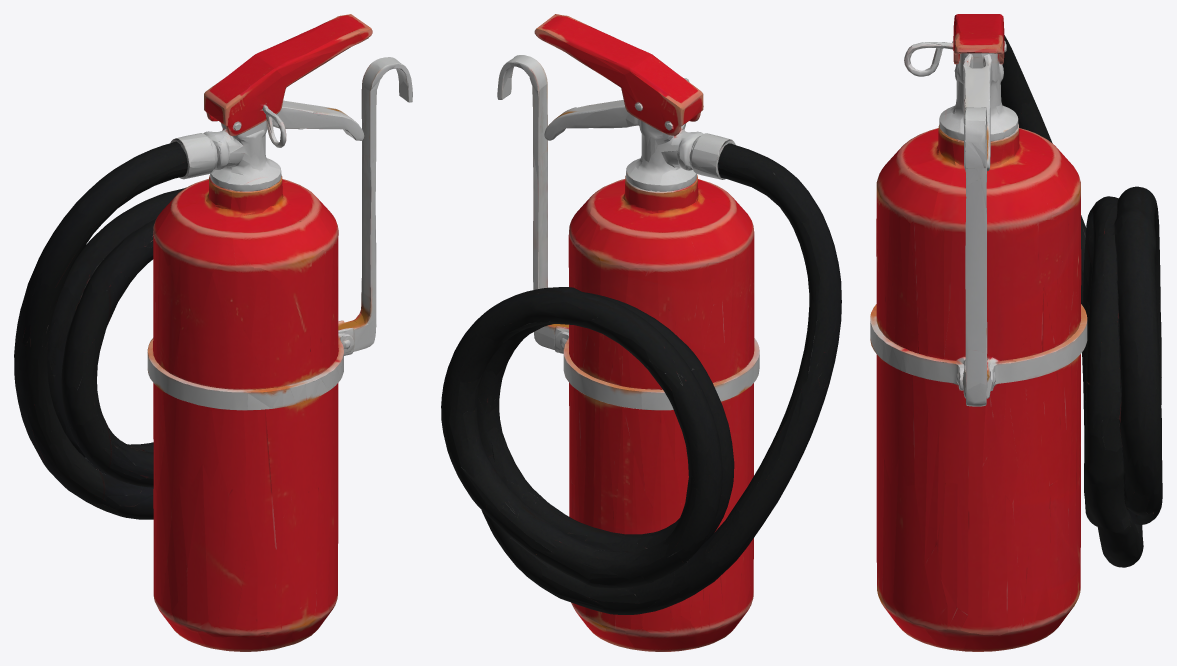
Rendered from estintore_staffa.glb.
The picture shows the model from 3 angles, left to right: view 1: azimuth 30°, elevation 25°; view 2: azimuth 150°, elevation 25°; view 3: azimuth 270°, elevation 25°; orthographic projection. The views are drawn at different scales.
Parts seen in each view (by area): view 1: Mesh_0; view 2: Mesh_0; view 3: Mesh_0.
Boxes of the visible parts, x1,y1,x2,y2 form: Mesh_0: [14, 14, 412, 651]; Mesh_0: [441, 14, 841, 651]; Mesh_0: [870, 14, 1162, 651].
Bounding box in the file's own units: 1.25 × 1.9 × 0.7934.
1 material, 1 textured.
